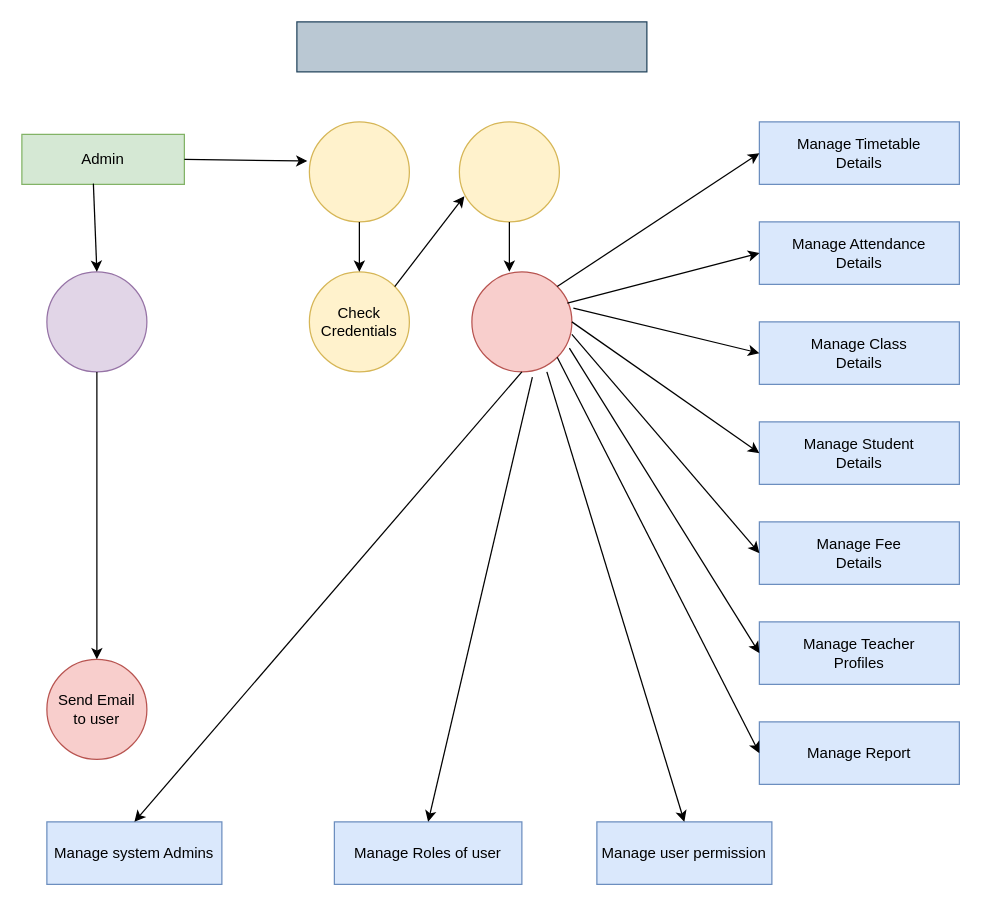
This 981x906 diagram has some shape labels left out. Here are the shapes that lost their labels. From the top down, the box of each, then its label:
(296, 21, 647, 72): STUDENT INFORMATION SYSTEM
(308, 121, 409, 222): Login to Systems
(458, 121, 559, 222): Check roles of access
(46, 271, 147, 372): Forgot Password
(471, 271, 572, 372): Manage Modules
